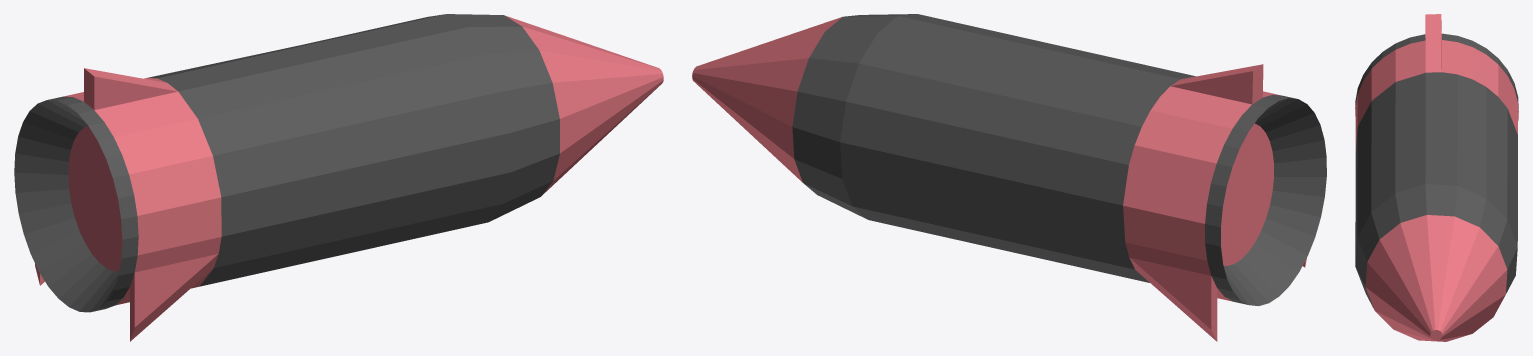
The model's file is rocketItem.fbx.
3 renders of one model, left to right at view 1: azimuth 30°, elevation 25°; view 2: azimuth 150°, elevation 25°; view 3: azimuth 270°, elevation 25°, orthographic. The views are drawn at different scales.
Visible parts, largest first — view 1: Cylinder; view 2: Cylinder; view 3: Cylinder.
Boxes of the visible parts, <box> form: Cylinder: <box>14,14,663,341</box>; Cylinder: <box>692,14,1326,341</box>; Cylinder: <box>1355,14,1518,341</box>.
Size of the model in its own units: 323 by 128 by 102.
